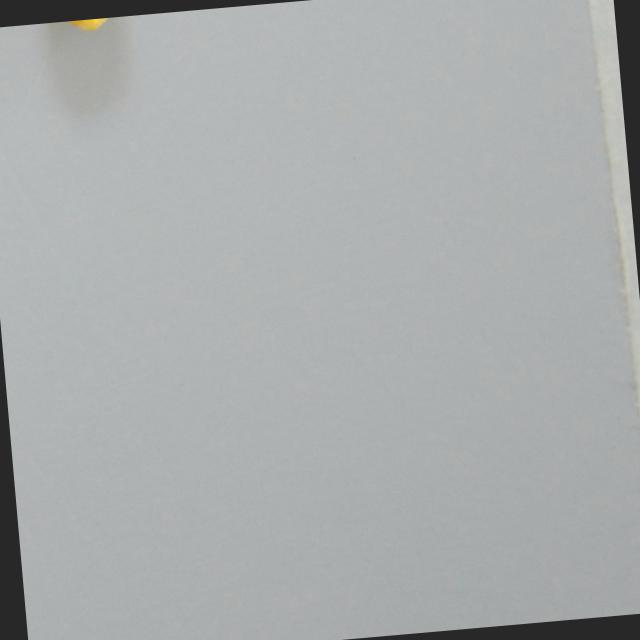no_canjicado: (41, 15, 141, 45)
